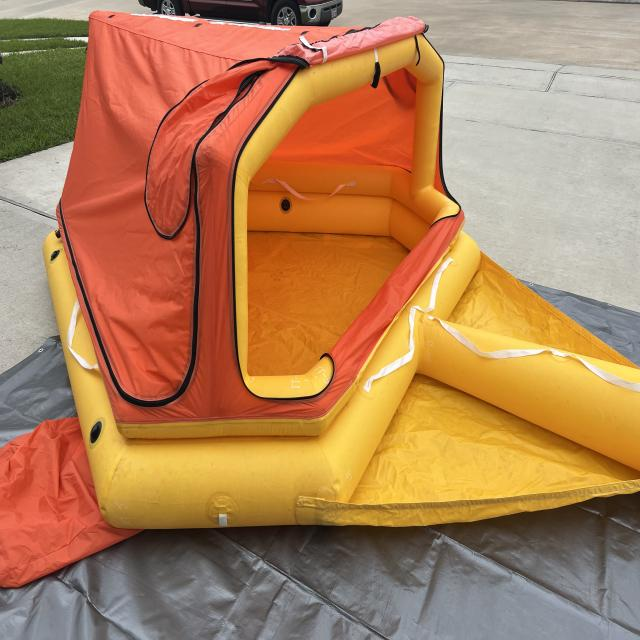Multi-person_life_raft: (1, 9, 640, 608)
